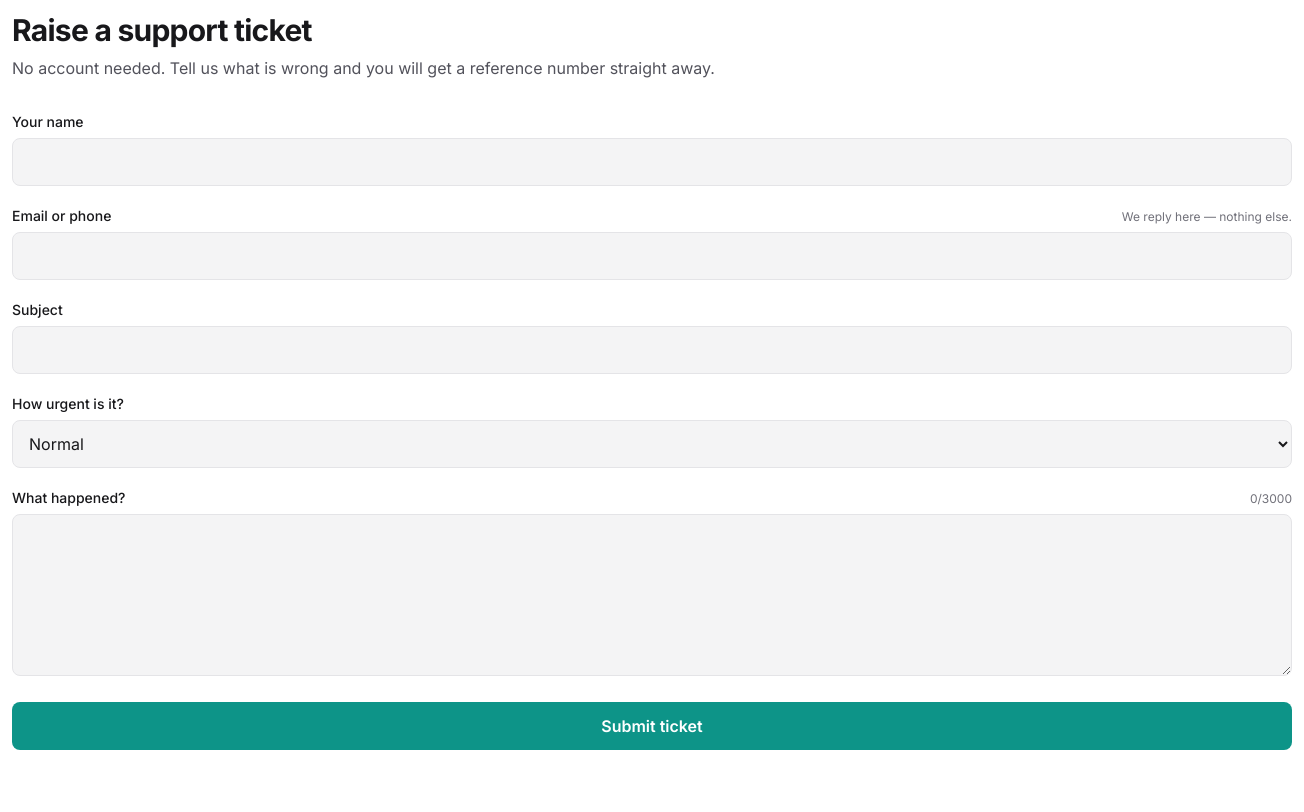
it: SupportForm › falls back to the feedback endpoint when no widget is configured
Type "Asha" into the field labelled "Your name".
click(652, 162); type("Asha")  # box left=12, top=138, right=1292, bottom=186
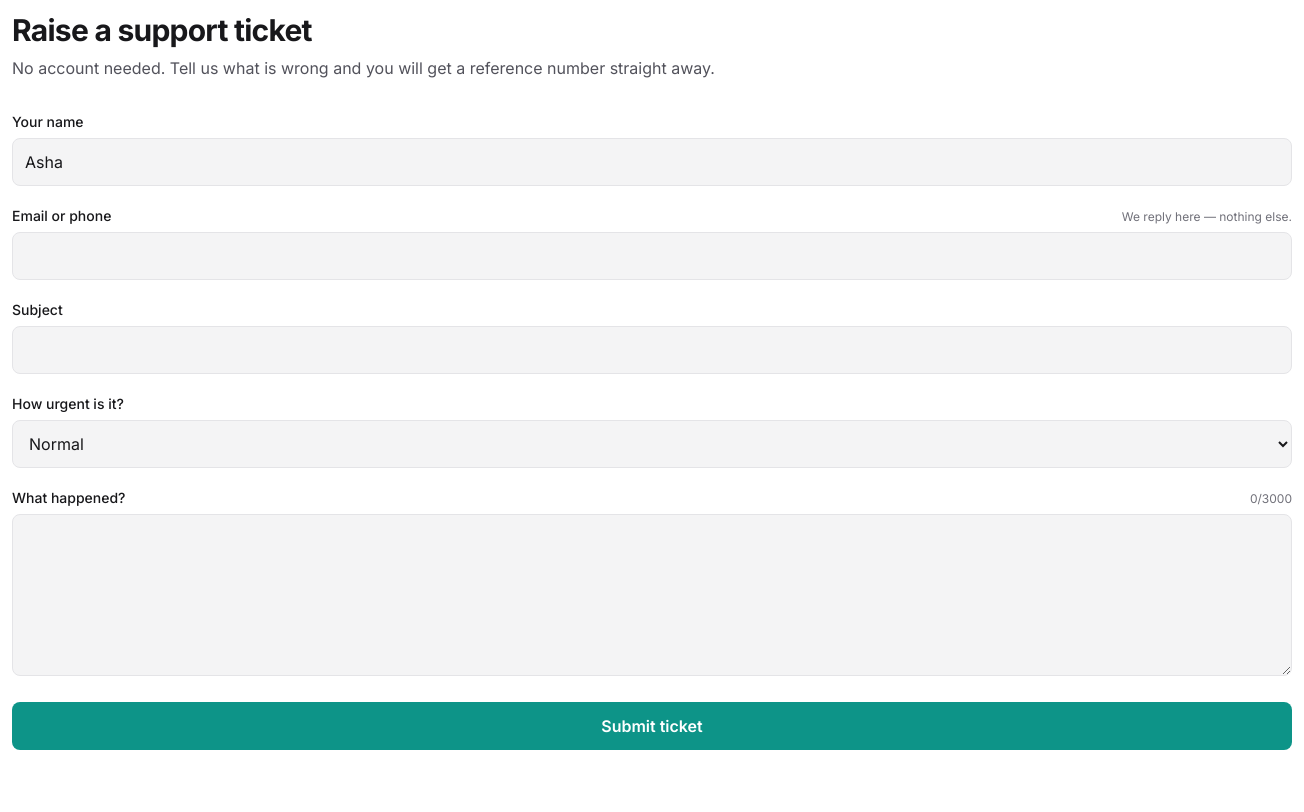
Type "asha@example.com" into the field labelled "Email or phone".
click(652, 256); type("asha@example.com")  # box left=12, top=232, right=1292, bottom=280
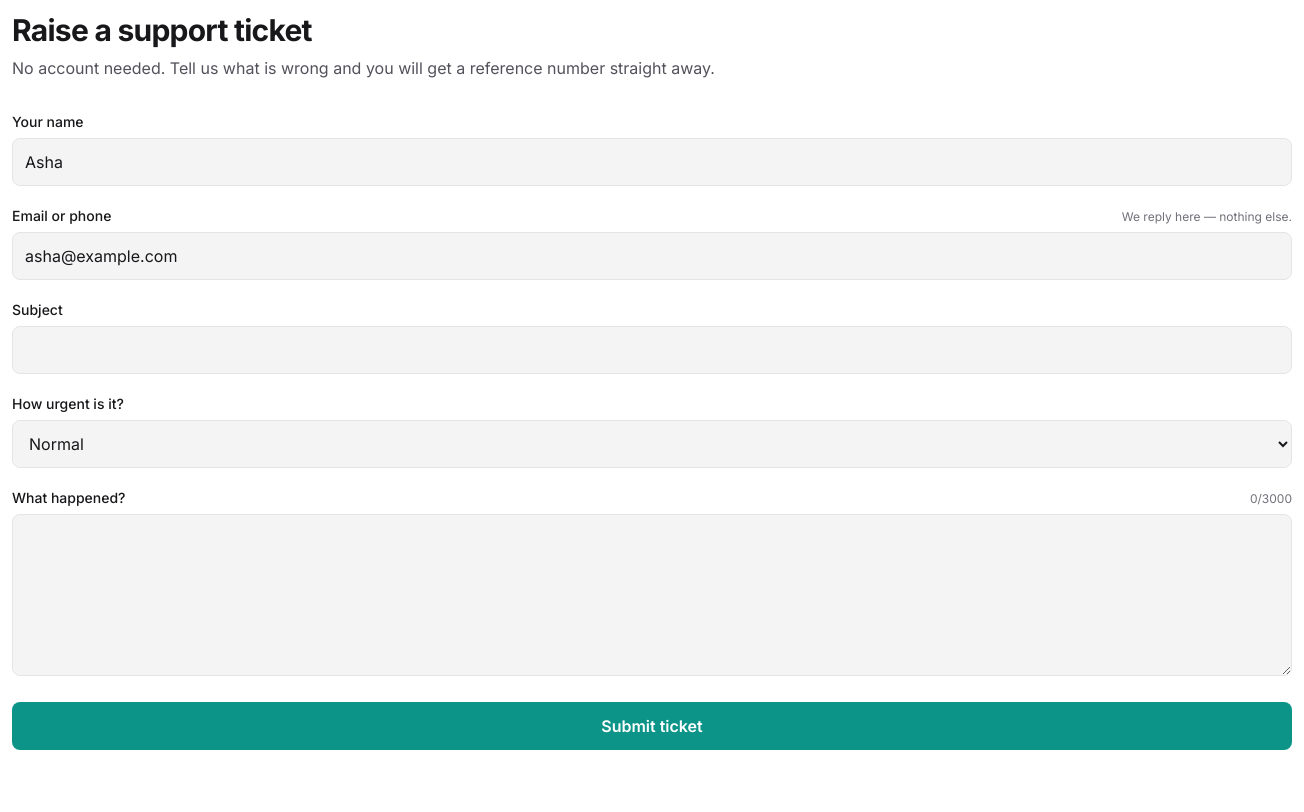
Type "Refund" into the field labelled "Subject".
click(652, 350); type("Refund")  # box left=12, top=326, right=1292, bottom=374
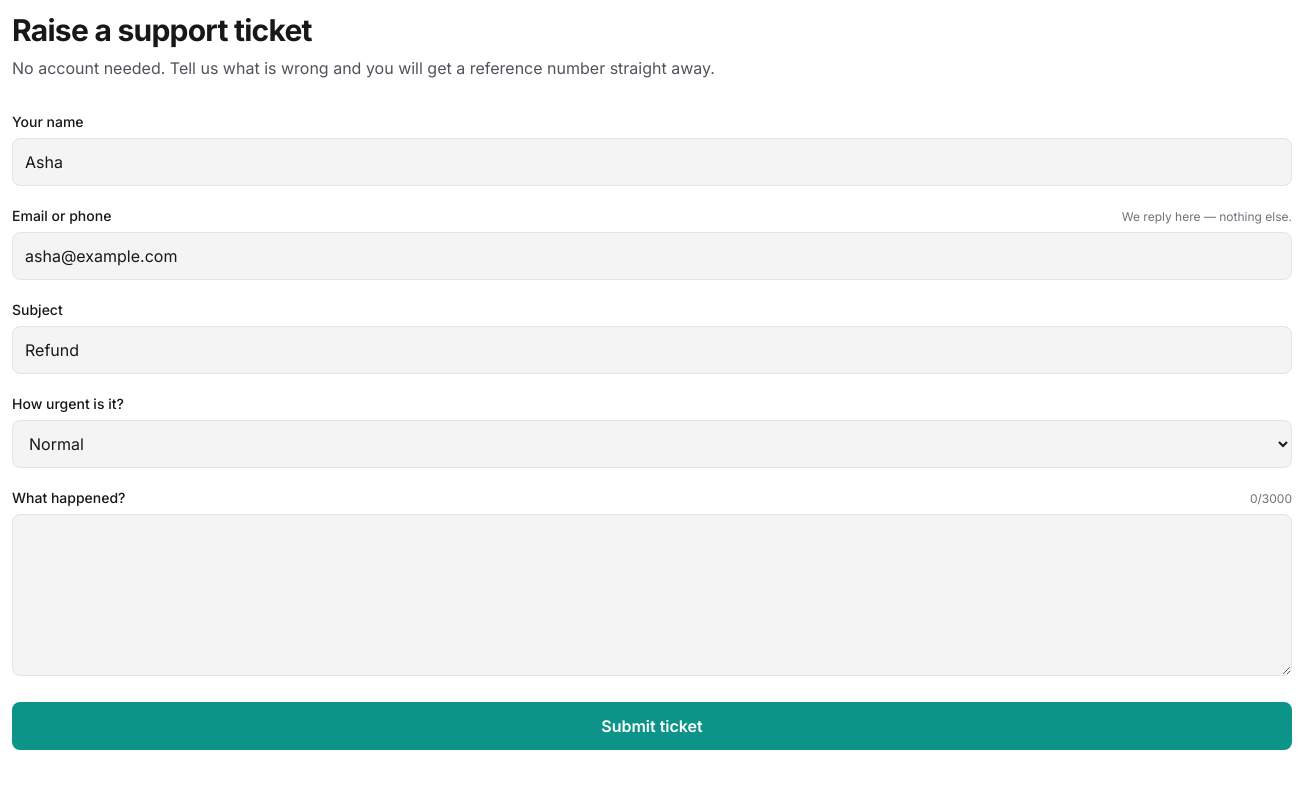
Type "My refund has not arrived yet." into the text box labelled "What happened?".
click(652, 595); type("My refund has not arrived yet.")  # box left=12, top=514, right=1292, bottom=676
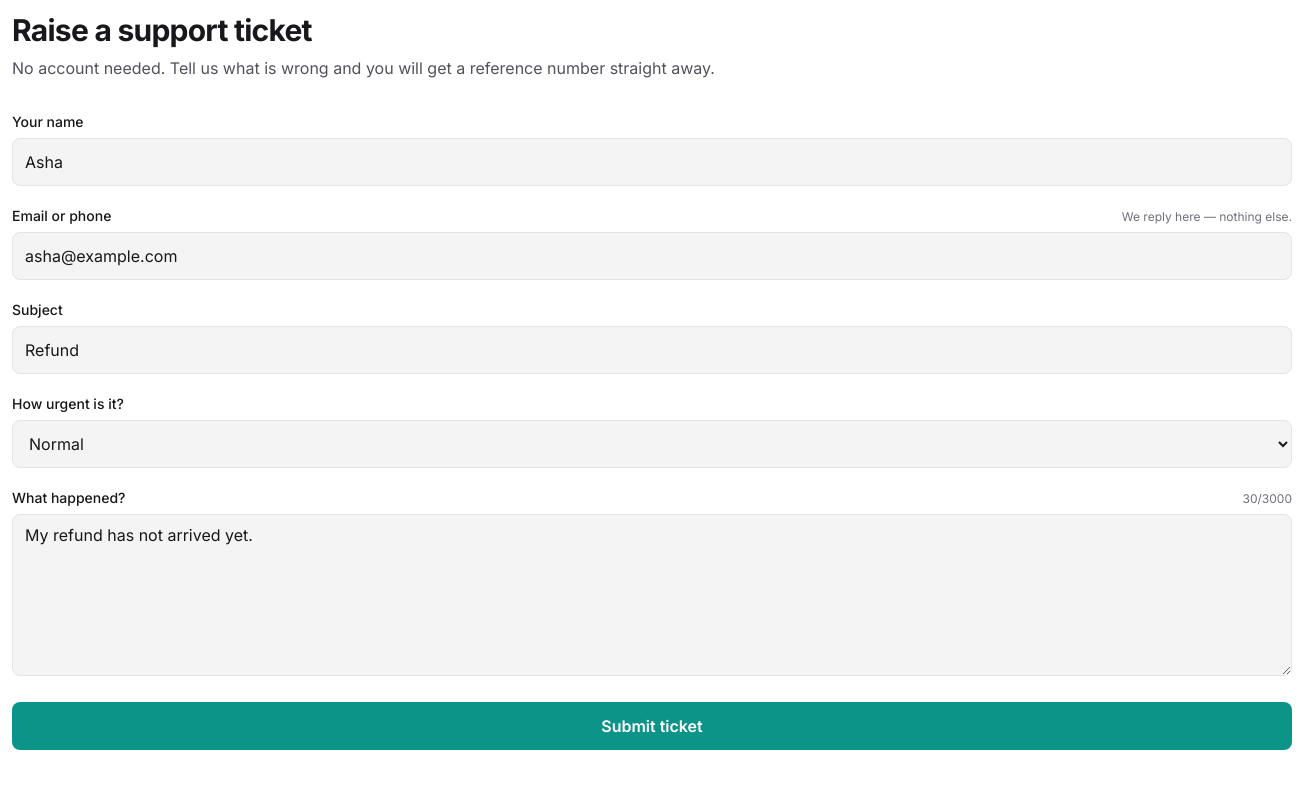
Click the button "Submit ticket".
click(652, 726)  # box left=12, top=702, right=1292, bottom=750
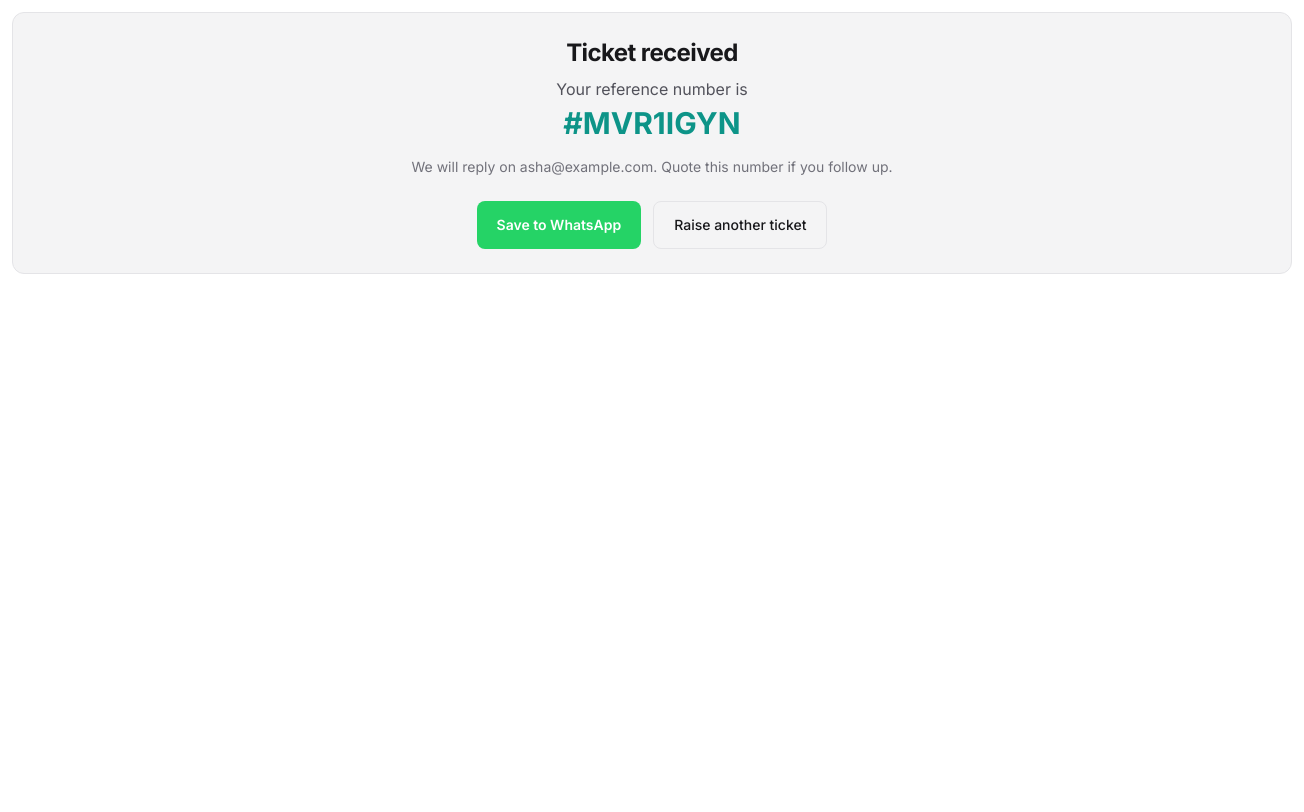
Expected: the heading "Ticket received" is shown, left=566, top=38, right=738, bottom=67
